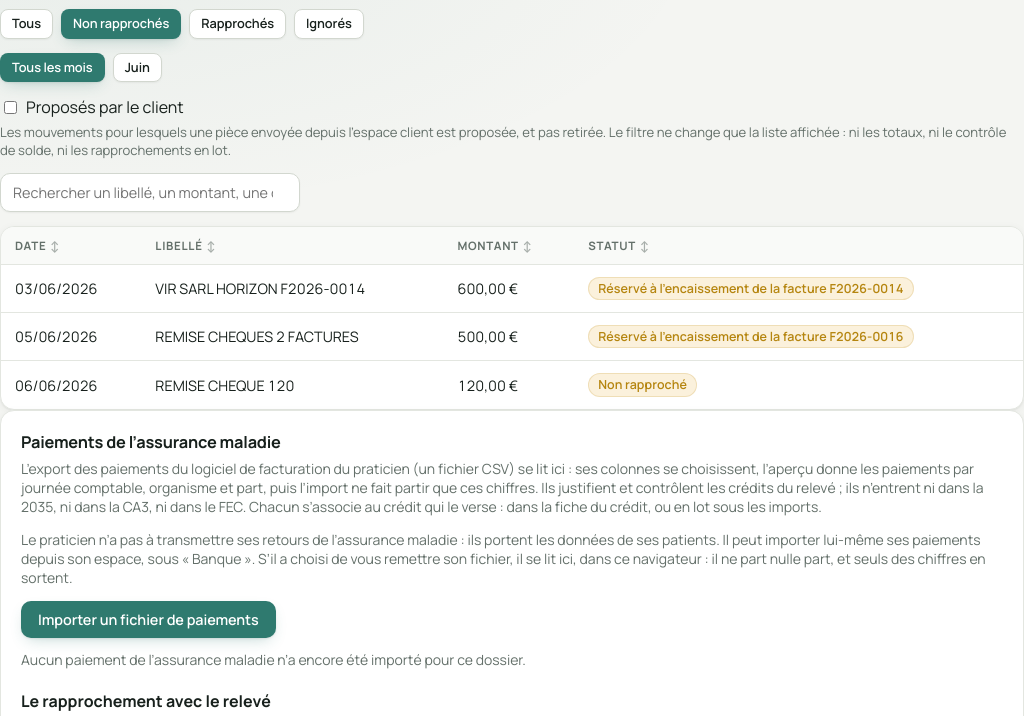
Test: la caisse (étape C6) : des espèces sans mouvement ne se proposent ni ne se rattachent à un crédit › la fenêtre ouverte sur un crédit n’offre pas les espèces ; les autres moyens, si
(page scrolled)
Click the row "06/06/2026 REMISE CHEQUE 120 120,00 € Non rapproché" at [512, 385], box [1, 361, 1023, 409]
(page scrolled)
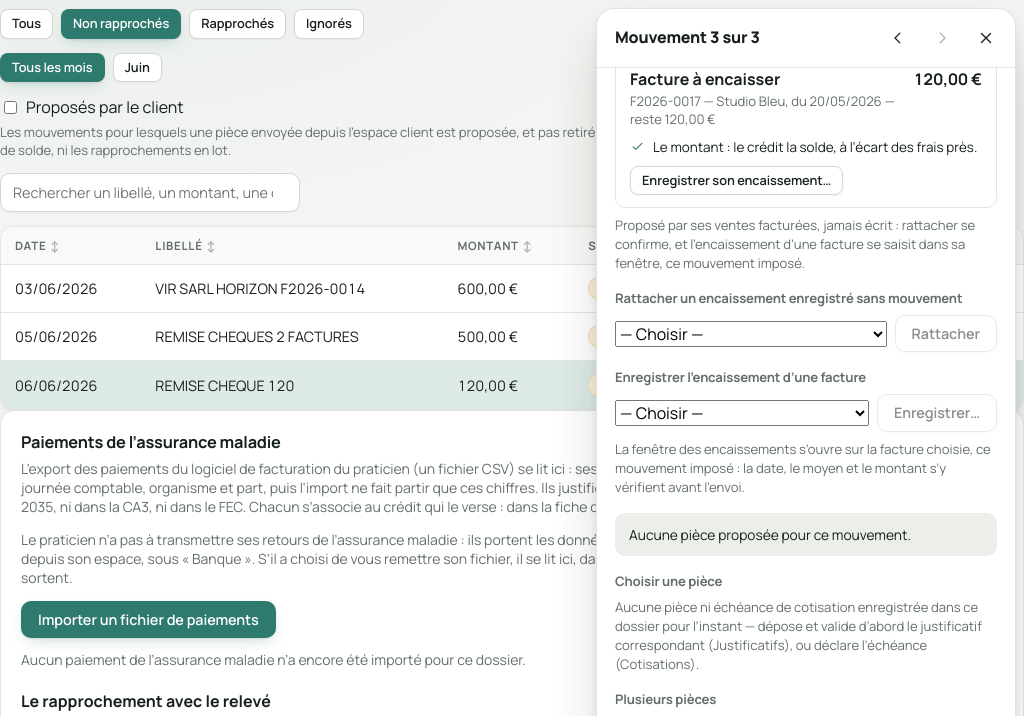
Select "F2026-0017 — Studio Bleu, du 20/05/2026 — reste 120,00 €" in the dropdown named "Facture à encaisser" at [742, 413], box [615, 400, 869, 426]
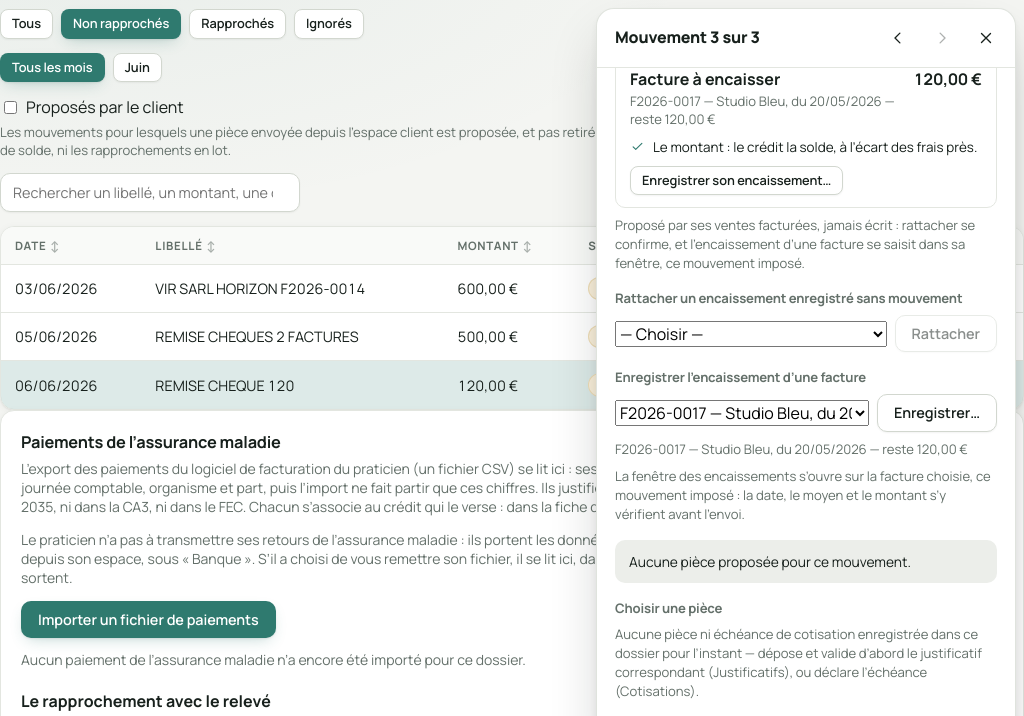
Click the button "Enregistrer…" at [937, 413], box [877, 394, 997, 432]
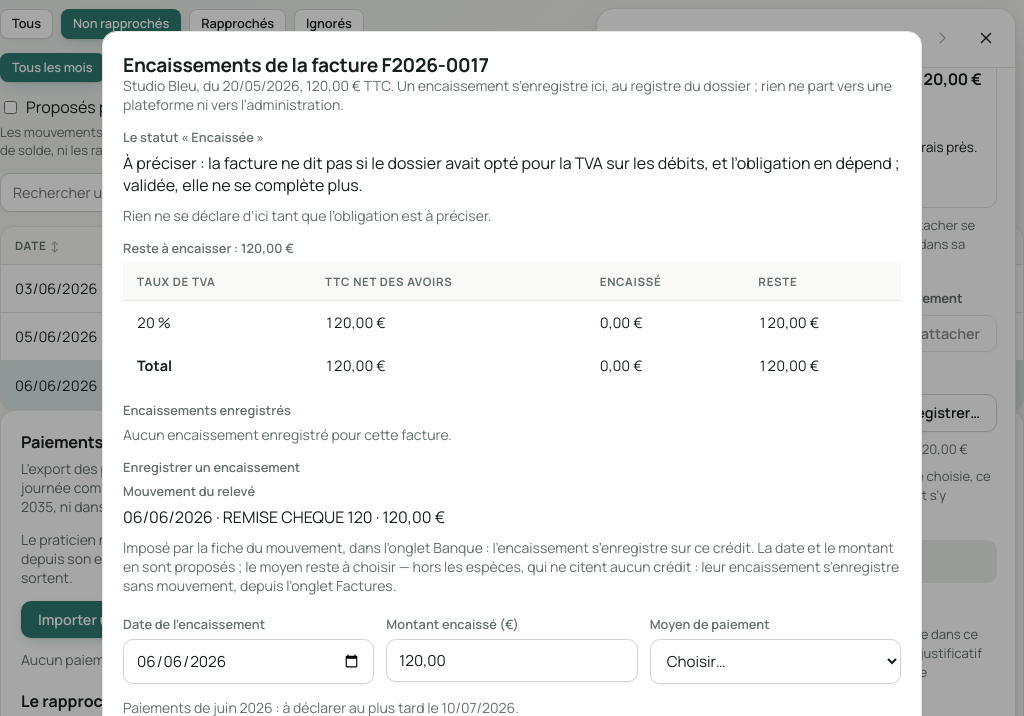
Expected: the heading "Encaissements de la facture F2026-0017" is shown, [123, 52, 489, 78]
Expected: the text "hors les espèces, qui ne citent aucun crédit" is shown, [123, 538, 899, 595]
